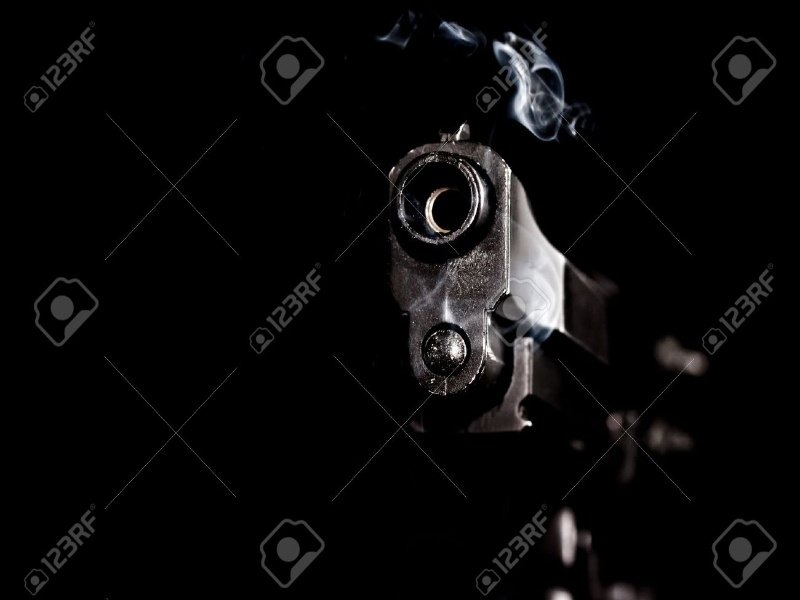gun: (379, 130, 700, 600)
